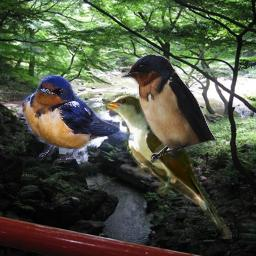Cuckoo: (103, 91, 232, 239)
Swallow: (121, 53, 217, 163), (18, 74, 134, 163)
